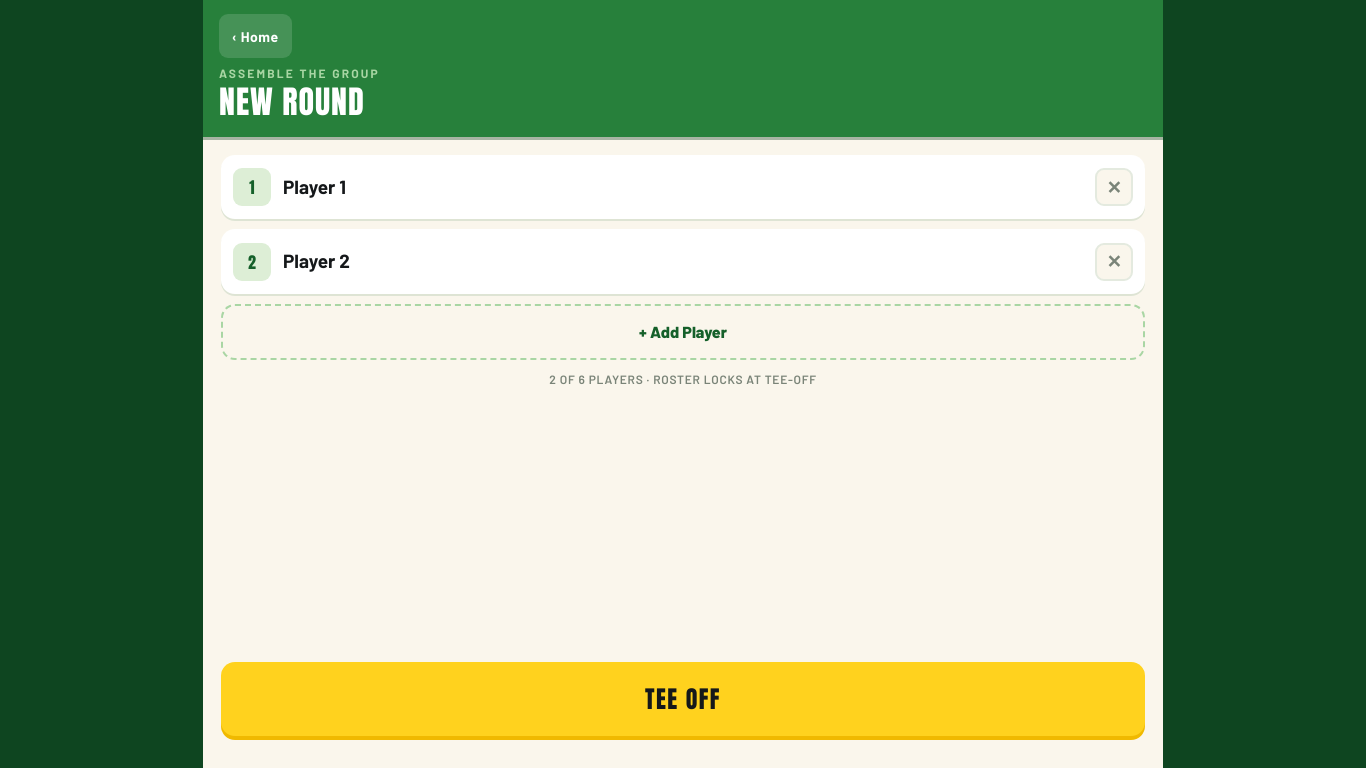
Test: NewRound › removes Players down to a roster of 1
Click the button named "remove" at (1114, 262), box x1=1095 y1=242 x2=1133 y2=280
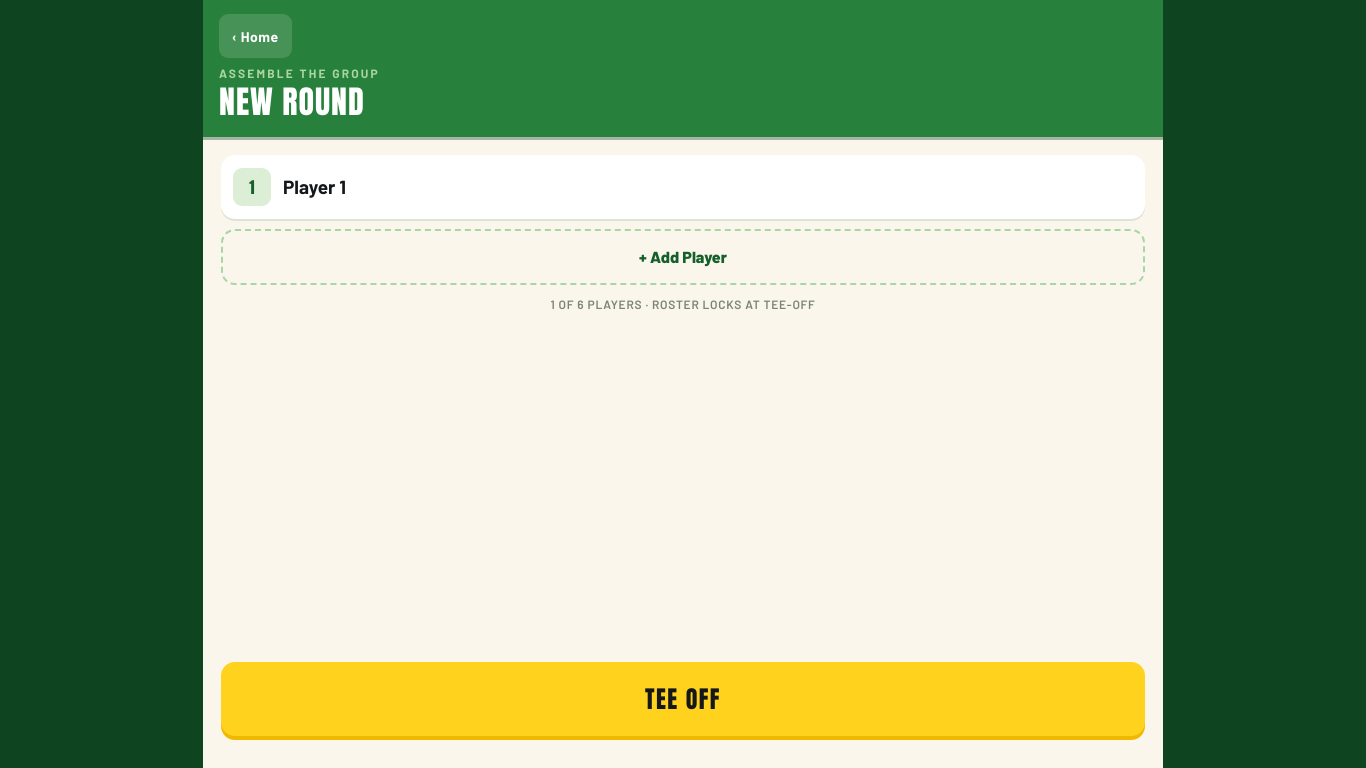
Result: the number of fields named "Player 1 name" is 1 at x1=281 y1=165 x2=1133 y2=209
